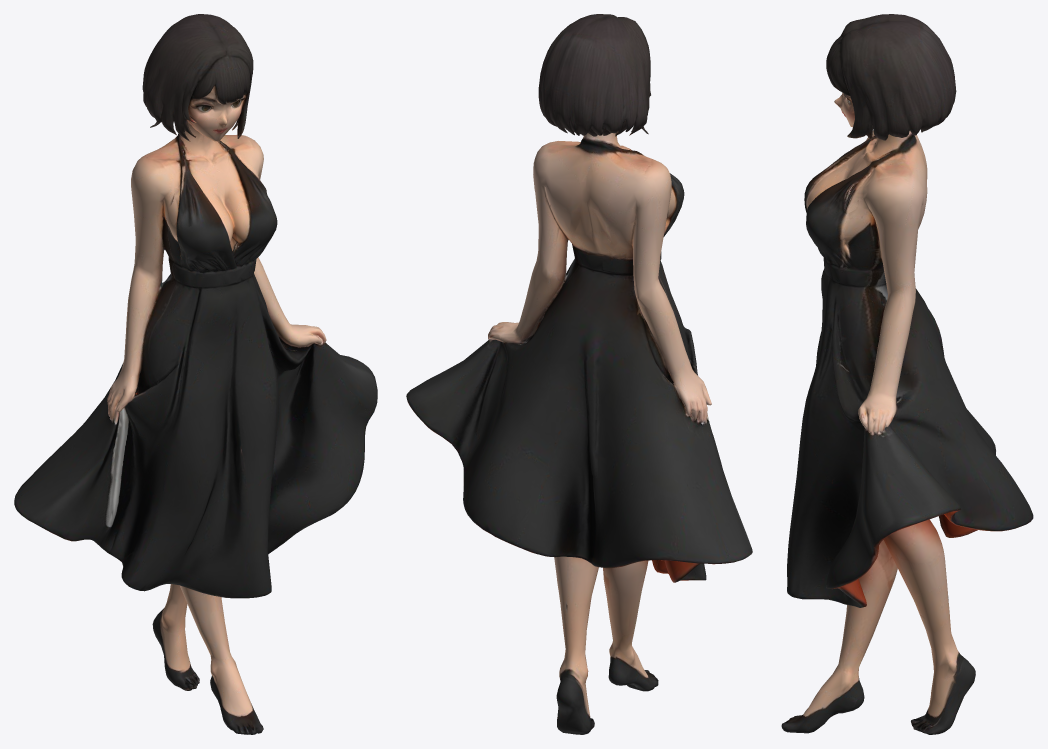
File: elsa.glb
3 views of the same model, side by side, from view 1: azimuth 30°, elevation 25°; view 2: azimuth 150°, elevation 25°; view 3: azimuth 270°, elevation 25° (orthographic). The views are drawn at different scales.
Bounding box in the file's own units: 0.9931 × 1.9 × 0.611.
Materials: 1 (1 with a texture image).
